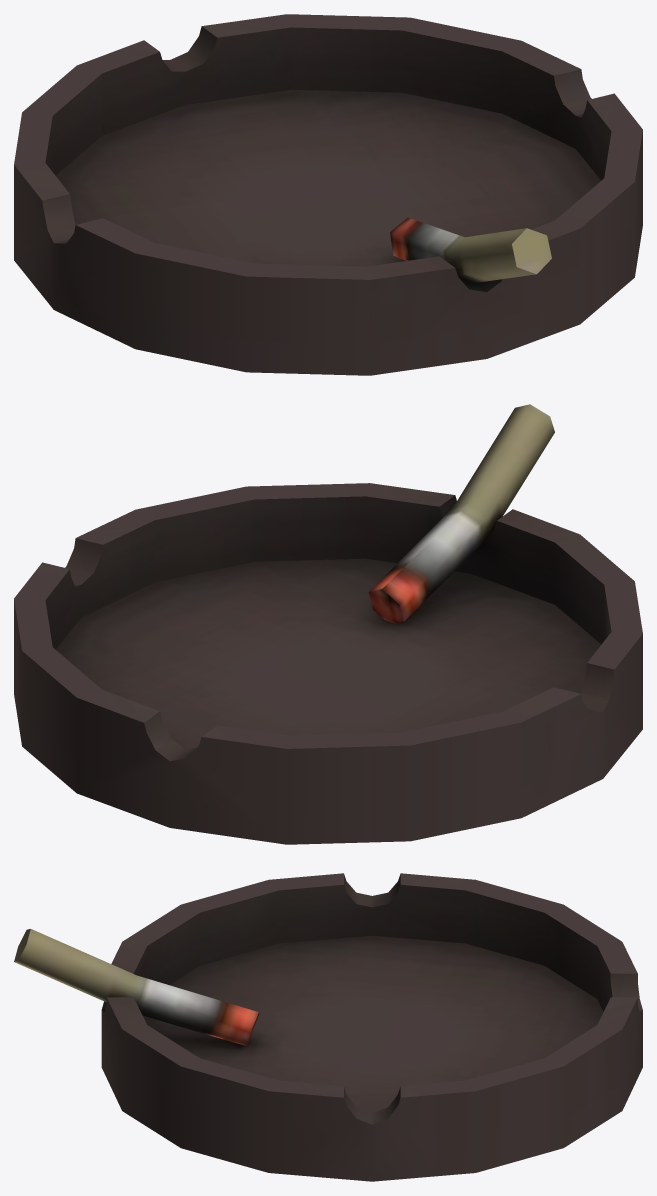
Rendered from ashtray.glb.
The picture shows the model from 3 angles, top to bottom: view 1: azimuth 30°, elevation 25°; view 2: azimuth 150°, elevation 25°; view 3: azimuth 270°, elevation 25°; orthographic projection. The views are drawn at different scales.
Visible parts, largest first — view 1: ashtray_0; view 2: ashtray_0; view 3: ashtray_0.
Boxes of the visible parts, bbox=[...] form: ashtray_0: bbox=[14, 14, 642, 375]; ashtray_0: bbox=[14, 404, 642, 844]; ashtray_0: bbox=[14, 873, 642, 1181].
Size of the model in its own units: 11.4 by 3.21 by 13.25.
1 material, 1 textured.
